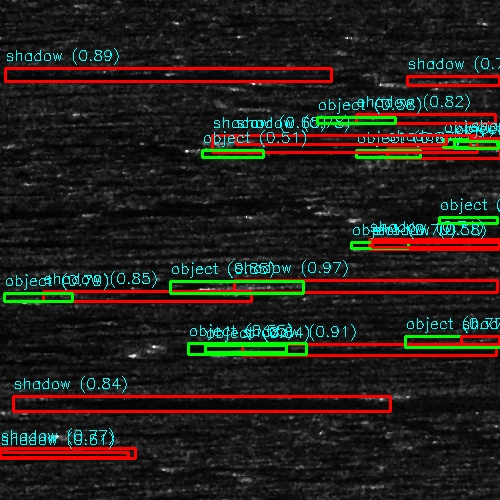rock: (123, 338, 352, 361), (0, 292, 83, 303), (353, 391, 426, 398), (190, 284, 263, 289), (352, 243, 415, 248), (406, 77, 469, 82), (363, 150, 426, 155), (444, 218, 500, 223)
shadow: (238, 338, 500, 361), (21, 292, 234, 303), (227, 284, 500, 289), (390, 391, 500, 398), (384, 243, 500, 248), (395, 150, 500, 155), (438, 77, 500, 82)
